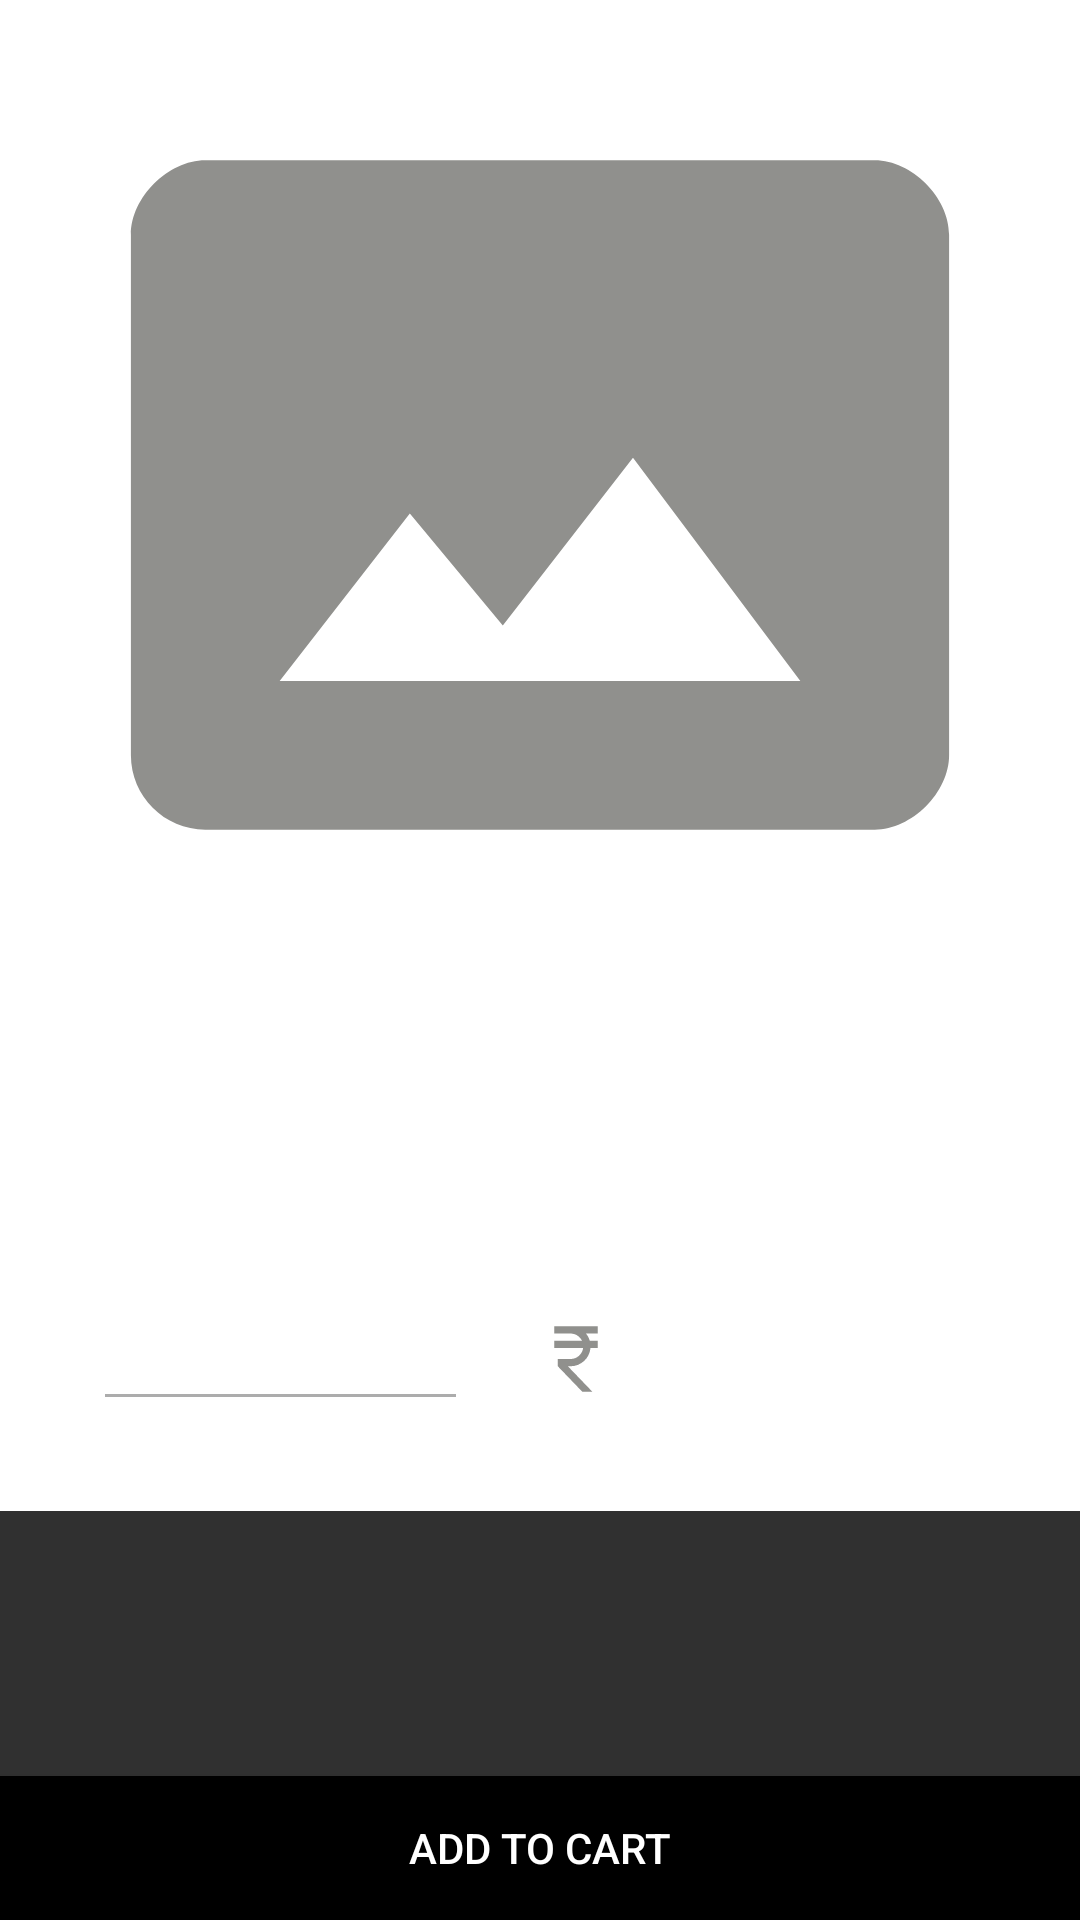

Icons on this 1080px x 1920px Android screen, each with its box as box(x1, y1, x2, y2):
rupee: box(554, 1326, 598, 1392)
